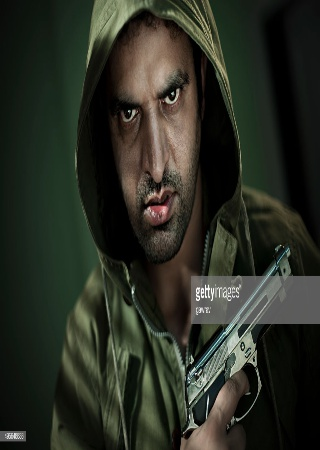handgun: (183, 245, 294, 439)
